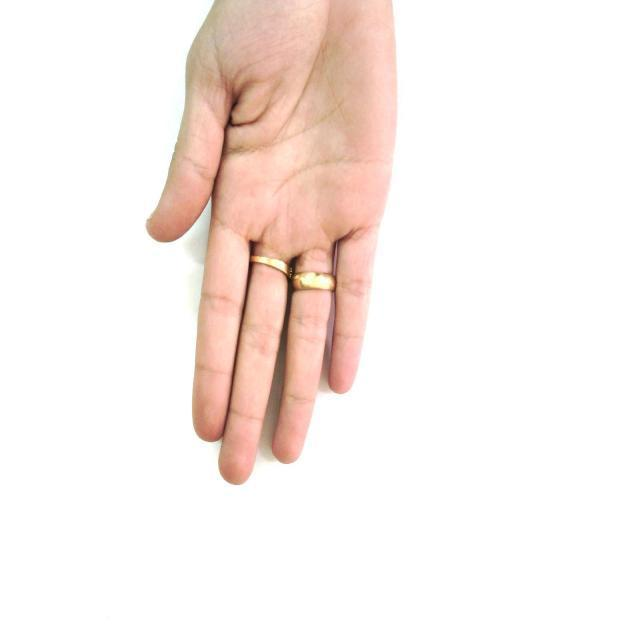hand: (145, 0, 399, 485)
